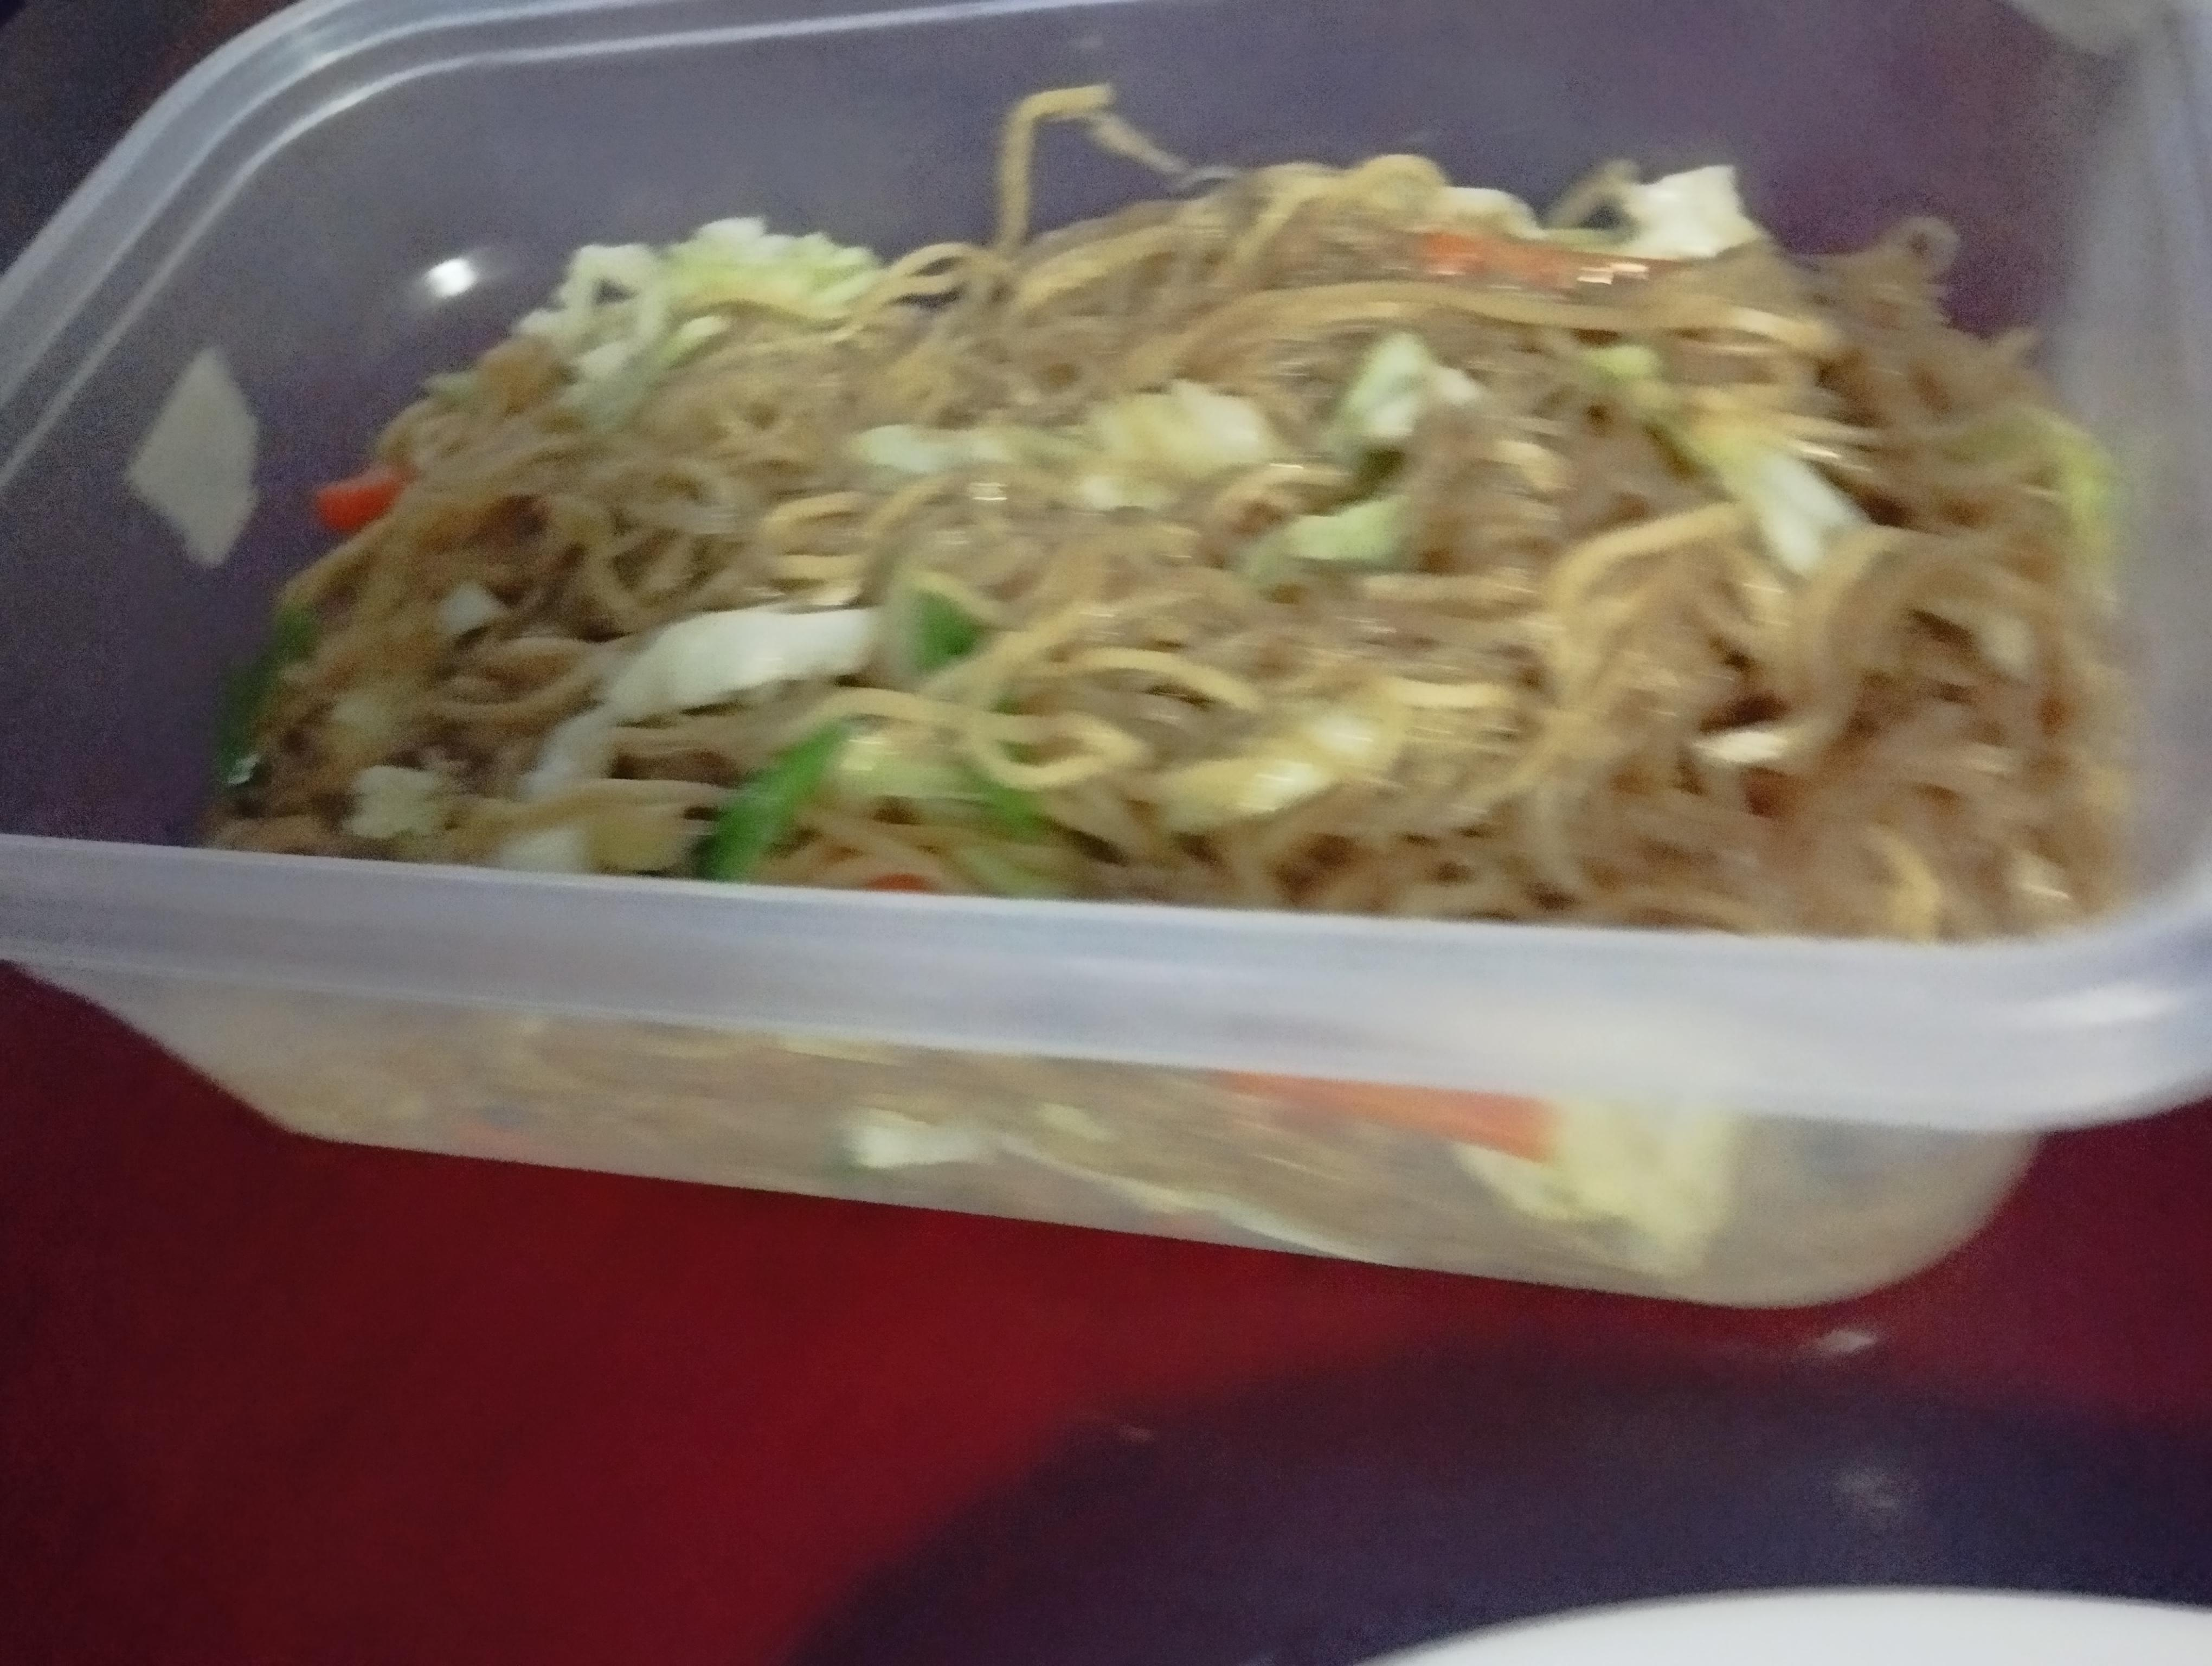pancit bihon: (210, 180, 2100, 950)
